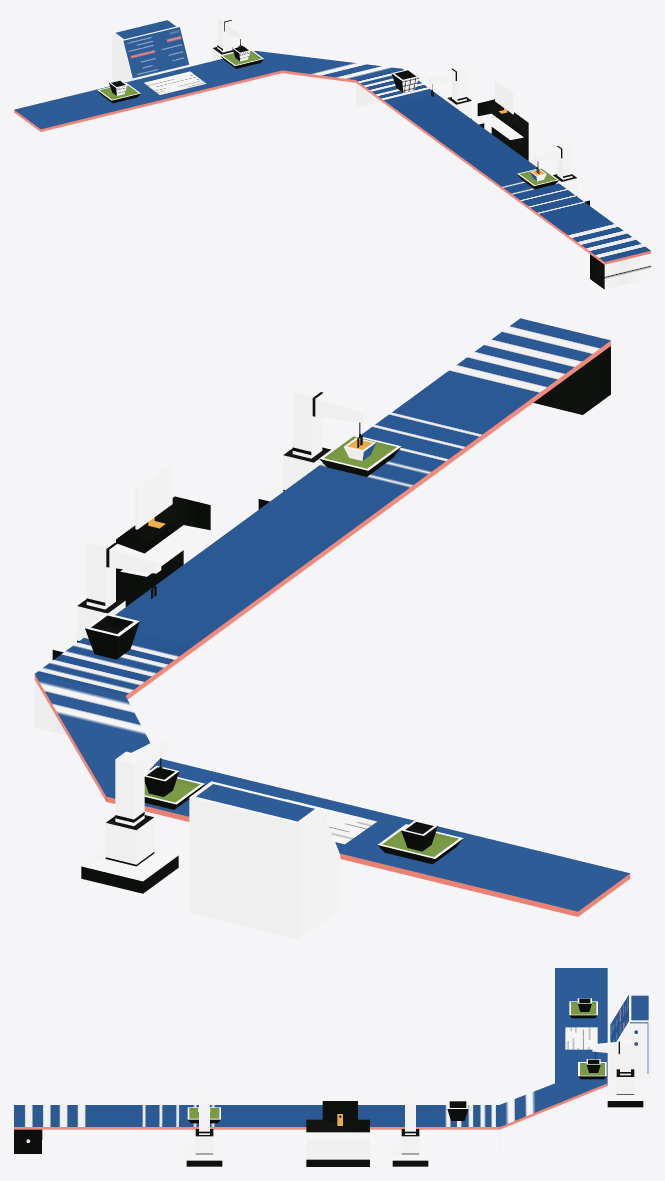
File: 生产工厂2.fbx
3 renders of one model, top to bottom at view 1: azimuth 30°, elevation 25°; view 2: azimuth 150°, elevation 25°; view 3: azimuth 270°, elevation 25°, orthographic. The views are drawn at different scales.
Parts seen in each view (by area): view 1: 折型桌子, 立方体_2, L形操作台, 机械手, 机械手_1, 机械手_2, 平面, 多边形, 盘子, 显示器, 盘子_1, 盘子_2; view 2: 折型桌子, 立方体_2, 机械手_2, L形操作台, 机械手, 机械手_1, 多边形, 显示器, 盘子, 盘子_2, 平面, 盘子_1; view 3: 折型桌子, L形操作台, 立方体_2, 机械手_2, 机械手, 机械手_1, 显示器, 平面, 多边形, 盘子_1, 盘子_2, 盘子.
Boxes of the visible parts, left/top/right/bottom form: 折型桌子: left=14, top=51, right=650, bottom=289; 立方体_2: left=112, top=18, right=189, bottom=82; L形操作台: left=477, top=99, right=528, bottom=160; 机械手: left=534, top=141, right=589, bottom=205; 机械手_1: left=429, top=64, right=484, bottom=128; 机械手_2: left=212, top=14, right=243, bottom=60; 平面: left=144, top=71, right=206, bottom=94; 多边形: left=391, top=69, right=419, bottom=92; 盘子: left=517, top=167, right=558, bottom=189; 显示器: left=495, top=80, right=513, bottom=114; 盘子_1: left=220, top=48, right=263, bottom=68; 盘子_2: left=97, top=83, right=140, bottom=103; 折型桌子: left=34, top=318, right=630, bottom=916; 立方体_2: left=189, top=781, right=340, bottom=939; 机械手_2: left=81, top=739, right=178, bottom=893; L形操作台: left=116, top=496, right=210, bottom=606; 机械手: left=258, top=384, right=367, bottom=509; 机械手_1: left=52, top=535, right=161, bottom=660; 多边形: left=85, top=613, right=139, bottom=659; 显示器: left=135, top=462, right=172, bottom=529; 盘子: left=319, top=434, right=401, bottom=476; 盘子_2: left=378, top=824, right=463, bottom=864; 平面: left=286, top=799, right=376, bottom=844; 盘子_1: left=144, top=770, right=204, bottom=809; 折型桌子: left=14, top=968, right=607, bottom=1153; L形操作台: left=306, top=1119, right=369, bottom=1166; 立方体_2: left=610, top=994, right=650, bottom=1079; 机械手_2: left=592, top=1039, right=643, bottom=1107; 机械手: left=186, top=1090, right=222, bottom=1166; 机械手_1: left=392, top=1090, right=428, bottom=1166; 显示器: left=322, top=1100, right=357, bottom=1121; 平面: left=565, top=1027, right=597, bottom=1049; 多边形: left=447, top=1100, right=468, bottom=1120; 盘子_1: left=578, top=1062, right=606, bottom=1079; 盘子_2: left=569, top=1001, right=597, bottom=1018; 盘子: left=187, top=1107, right=220, bottom=1123.
Bounding box in the file's own units: 1278 × 218 × 2002.
